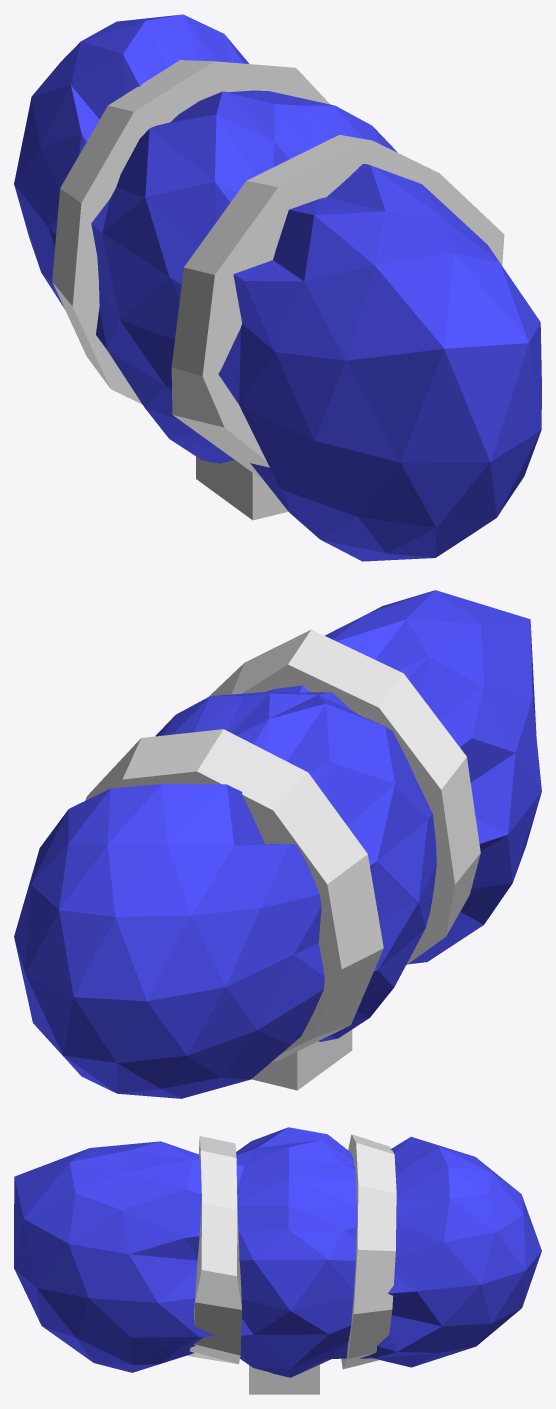
File: dirigible.glb
3 views of the same model, one above another, from view 1: azimuth 30°, elevation 25°; view 2: azimuth 150°, elevation 25°; view 3: azimuth 270°, elevation 25° (orthographic). The views are drawn at different scales.
Visible parts, largest first — view 1: Icosphere.001, Cylinder, Cylinder.001, Cube; view 2: Icosphere.001, Cylinder.001, Cylinder, Cube; view 3: Icosphere.001, Cylinder, Cylinder.001, Cube.
Boxes of the visible parts, box(x1,y1,x2,y2) form: Icosphere.001: box(14, 14, 541, 561); Cylinder: box(171, 135, 504, 478); Cylinder.001: box(52, 60, 330, 404); Cube: box(196, 456, 288, 520); Icosphere.001: box(14, 590, 541, 1098); Cylinder.001: box(85, 729, 383, 1062); Cylinder: box(209, 629, 480, 964); Cube: box(252, 1029, 352, 1090); Icosphere.001: box(14, 1127, 541, 1377); Cylinder: box(186, 1136, 241, 1364); Cylinder.001: box(341, 1134, 396, 1369); Cube: box(249, 1364, 319, 1394).
Bounding box in the file's own units: 6.01 × 6.83 × 13.49.
